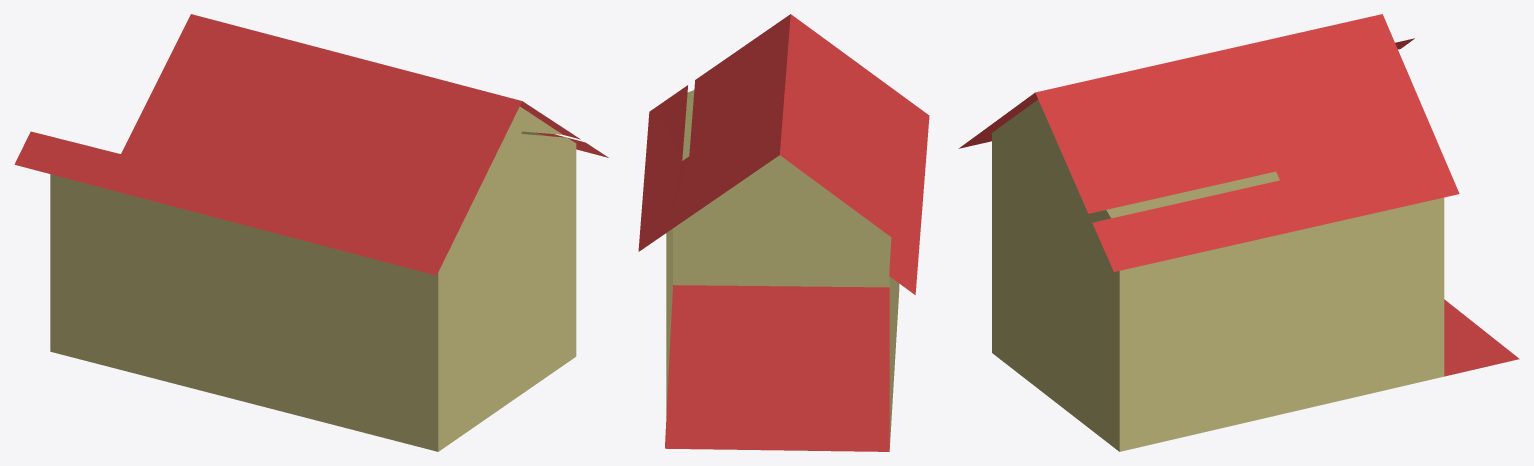
3 renders of one model, left to right at view 1: azimuth 30°, elevation 25°; view 2: azimuth 150°, elevation 25°; view 3: azimuth 270°, elevation 25°, orthographic. The views are drawn at different scales.
Size of the model in its own units: 19.31 by 20.54 by 12.6.
